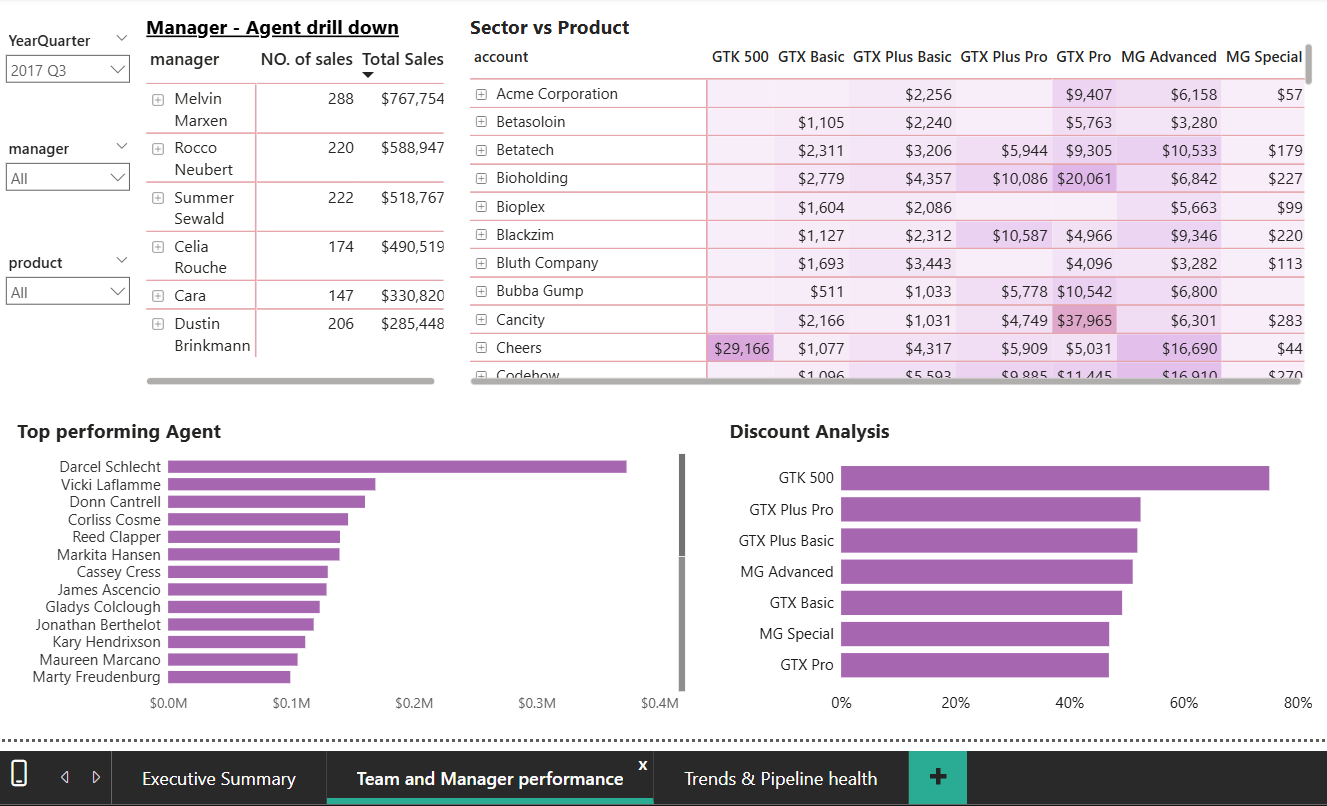

Layout of this report page (visuals, bound fields, positions):
{"tool":"powerbi","page":{"name":"Team and Manager performance","canvas":[1650,920],"ordinal":1},"visuals":[{"type":"slicer","fields":{"Values":["Dates.YearQuarter"]},"box":[0,36,173.6,86.8],"z":0},{"type":"slicer","fields":{"Values":["Sales_Team.manager"]},"box":[0,169.3,173.6,84.7],"z":1000},{"type":"pivotTable","title":"Manager - Agent drill down","fields":{"Rows":["Sales_Team.manager","Sales_Team.sales_agent"],"Values":["Accounts.NO. of sales","Sales_Pipeline.Total Sales"]},"box":[177.8,21.2,378.9,465.7],"z":2000},{"type":"clusteredBarChart","title":"Top performing Agent","fields":{"Y":["Sales_Pipeline.Total Sales"],"Category":["Sales_Pipeline.sales_agent"]},"box":[19,520.7,838.2,376.8],"z":3000},{"type":"pivotTable","title":"Sector vs Product","fields":{"Rows":["Accounts.account","Accounts.sector"],"Columns":["Products.product"],"Values":["Sales_Pipeline.Total Sales"]},"box":[580,21.2,1054.1,465.7],"z":4000},{"type":"clusteredBarChart","title":"Discount Analysis","fields":{"Category":["Products.product"],"Y":["Accounts.% Sales Discounted"]},"box":[901.7,520.7,732.3,376.8],"z":5000},{"type":"slicer","fields":{"Values":["Sales_Pipeline.product"]},"box":[0,311.1,173.6,86.8],"z":6000}]}

Visuals, with their boxes on the page's 1650x920 design canvas (x1, y1, x2, y2). These are canvas units, not pixel positions in the 1327x806 screenshot, which may show the page scaled, cropped or inside an application window:
slicer - Dates.YearQuarter: {"x1": 0, "y1": 36, "x2": 174, "y2": 123}
slicer - Sales_Team.manager: {"x1": 0, "y1": 169, "x2": 174, "y2": 254}
"Manager - Agent drill down" pivotTable: {"x1": 178, "y1": 21, "x2": 557, "y2": 487}
"Top performing Agent" clusteredBarChart: {"x1": 19, "y1": 521, "x2": 857, "y2": 898}
"Sector vs Product" pivotTable: {"x1": 580, "y1": 21, "x2": 1634, "y2": 487}
"Discount Analysis" clusteredBarChart: {"x1": 902, "y1": 521, "x2": 1634, "y2": 898}
slicer - Sales_Pipeline.product: {"x1": 0, "y1": 311, "x2": 174, "y2": 398}
